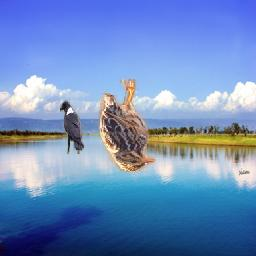Crow: (60, 100, 84, 154)
Sparrow: (98, 80, 156, 173)
